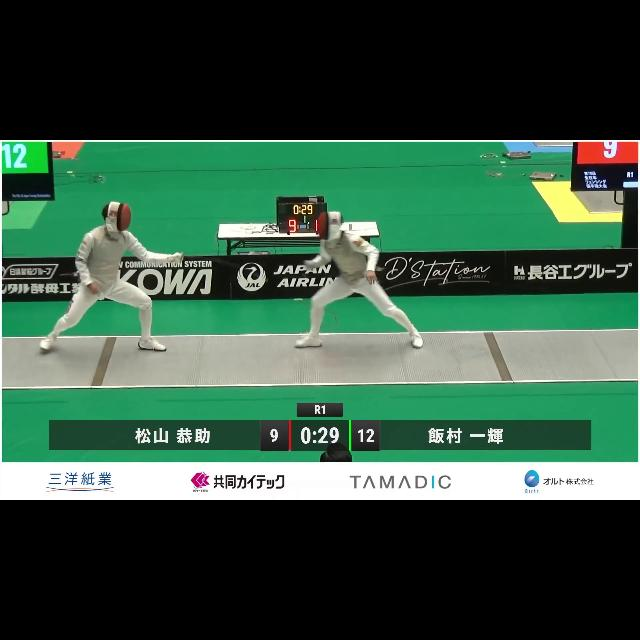blade: (178, 252, 270, 284)
